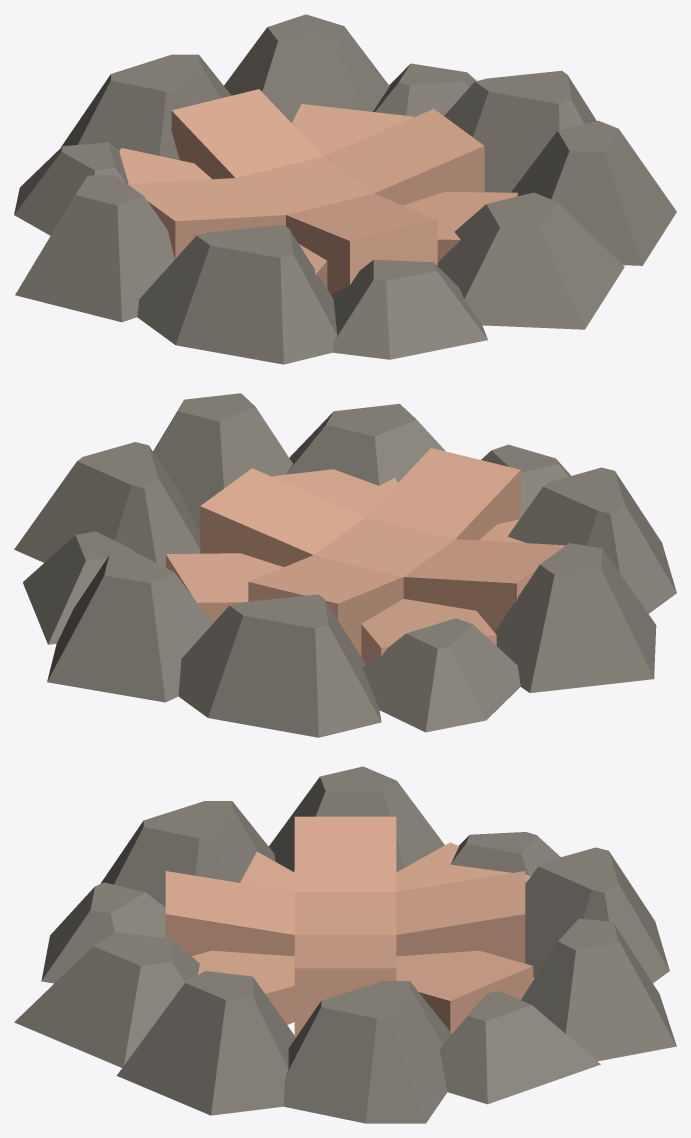
File: feu-de-camp.glb
3 views of the same model, one above another, from view 1: azimuth 30°, elevation 25°; view 2: azimuth 150°, elevation 25°; view 3: azimuth 270°, elevation 25° (orthographic). The views are drawn at different scales.
Visible parts, largest first — view 1: campfire_stones, campfire_logs; view 2: campfire_stones, campfire_logs; view 3: campfire_stones, campfire_logs.
Part boxes in pixels (box(x1,y1,x2,y2)): campfire_stones: box(14, 14, 676, 364); campfire_logs: box(119, 89, 517, 294); campfire_stones: box(14, 393, 676, 737); campfire_logs: box(166, 448, 565, 664); campfire_stones: box(14, 766, 676, 1123); campfire_logs: box(165, 816, 533, 1036).
Size of the model in its own units: 2.5 by 0.3595 by 2.38.
